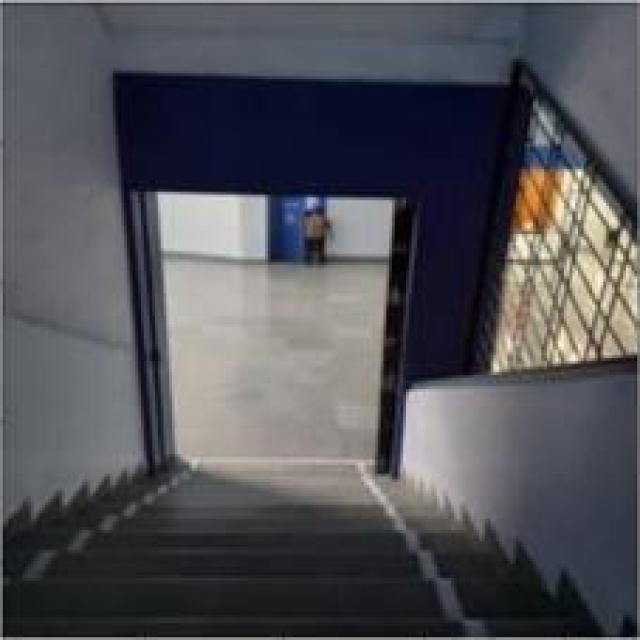downstair: (108, 458, 424, 621)
